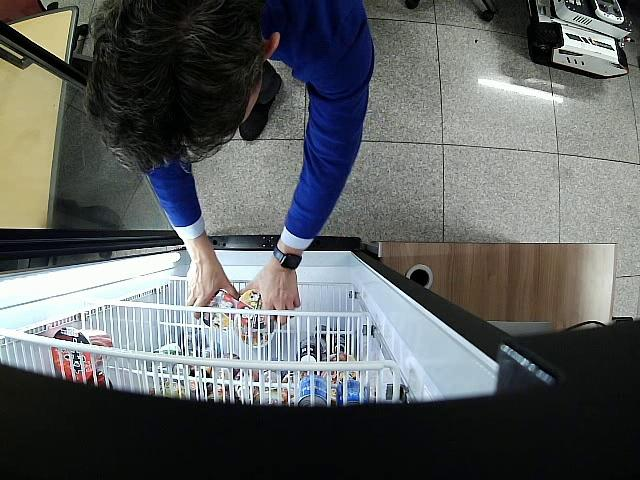00_hand: (238, 261, 300, 325), (186, 251, 240, 320)
08_buldak_S: (238, 289, 277, 347), (204, 289, 239, 331)
